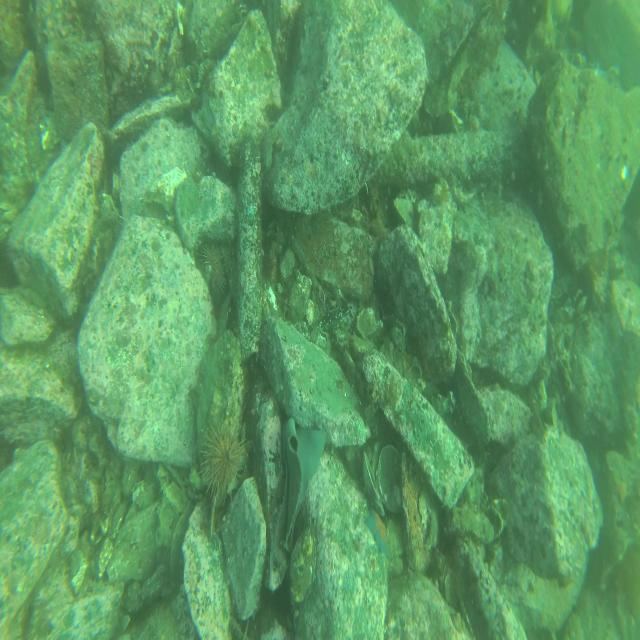echinus: (194, 421, 248, 496), (197, 239, 227, 300), (478, 0, 511, 31)
scallop: (361, 443, 406, 518)
starfish: (364, 508, 390, 556)
